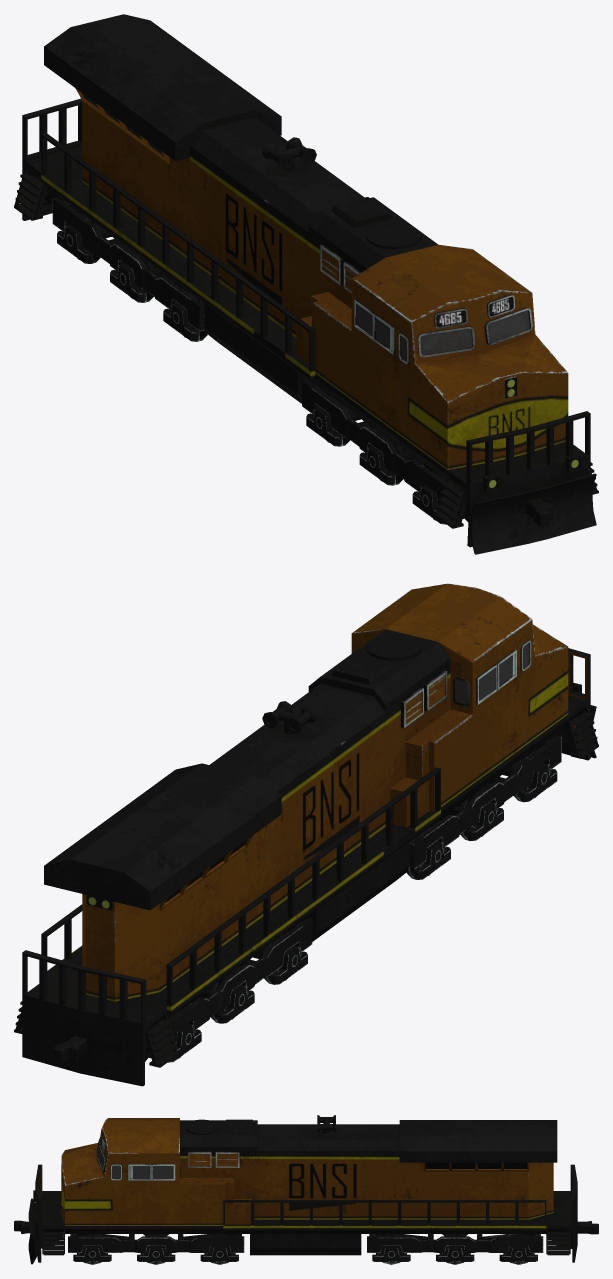
Rendered from Locomotive.fbx.
The picture shows the model from 3 angles, top to bottom: view 1: azimuth 30°, elevation 25°; view 2: azimuth 150°, elevation 25°; view 3: azimuth 270°, elevation 25°; orthographic projection. The views are drawn at different scales.
Visible parts, largest first — view 1: Locomotive; view 2: Locomotive; view 3: Locomotive.
Boxes of the visible parts, x1=… form: Locomotive: x1=14, y1=14, x2=598, y2=554; Locomotive: x1=14, y1=583, x2=598, y2=1086; Locomotive: x1=14, y1=1115, x2=598, y2=1264.
Size of the model in its own units: 431 by 627 by 2490.
1 material, 1 textured.
